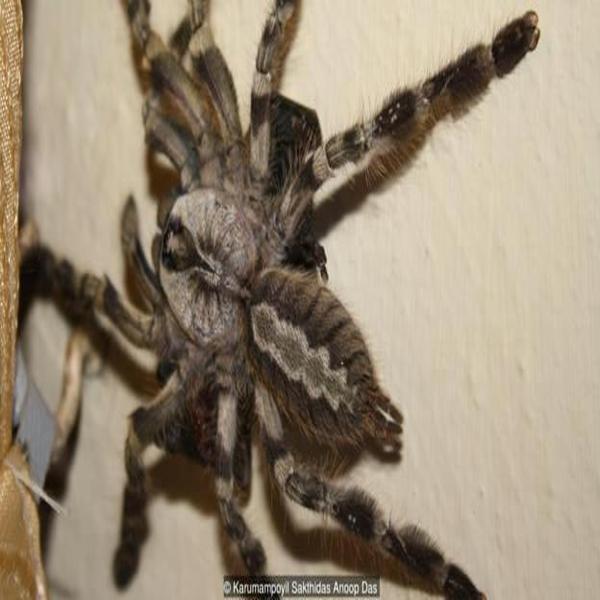Tarantula Spider: (42, 16, 525, 578)
